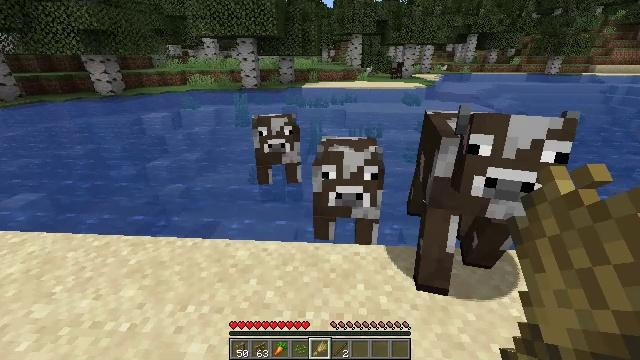cow: (408, 112, 580, 291), (312, 136, 383, 241), (253, 114, 301, 182), (390, 61, 405, 80)
